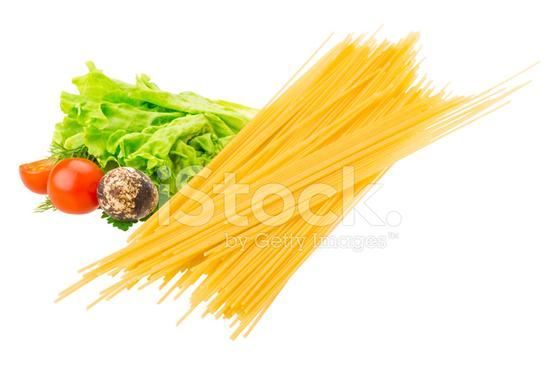spaghetti: (168, 37, 469, 344)
